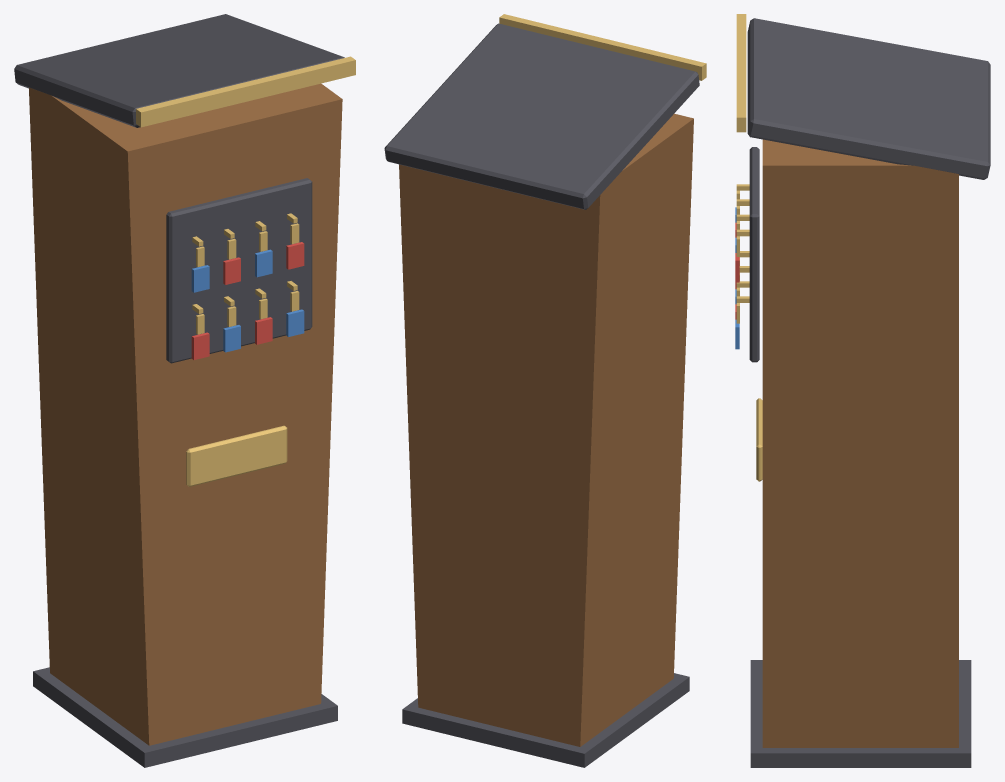
Rendered from valet-stand.glb.
The picture shows the model from 3 angles, left to right: view 1: azimuth 30°, elevation 25°; view 2: azimuth 150°, elevation 25°; view 3: azimuth 270°, elevation 25°; orthographic projection. The views are drawn at different scales.
Parts seen in each view (by area): view 1: valet-stand; view 2: valet-stand; view 3: valet-stand.
Boxes of the visible parts, x1,y1,x2,y2 form: valet-stand: (14,14,355,767); valet-stand: (384,14,706,767); valet-stand: (735,14,990,767).
Size of the model in its own units: 0.3 by 0.885 by 0.3122.
